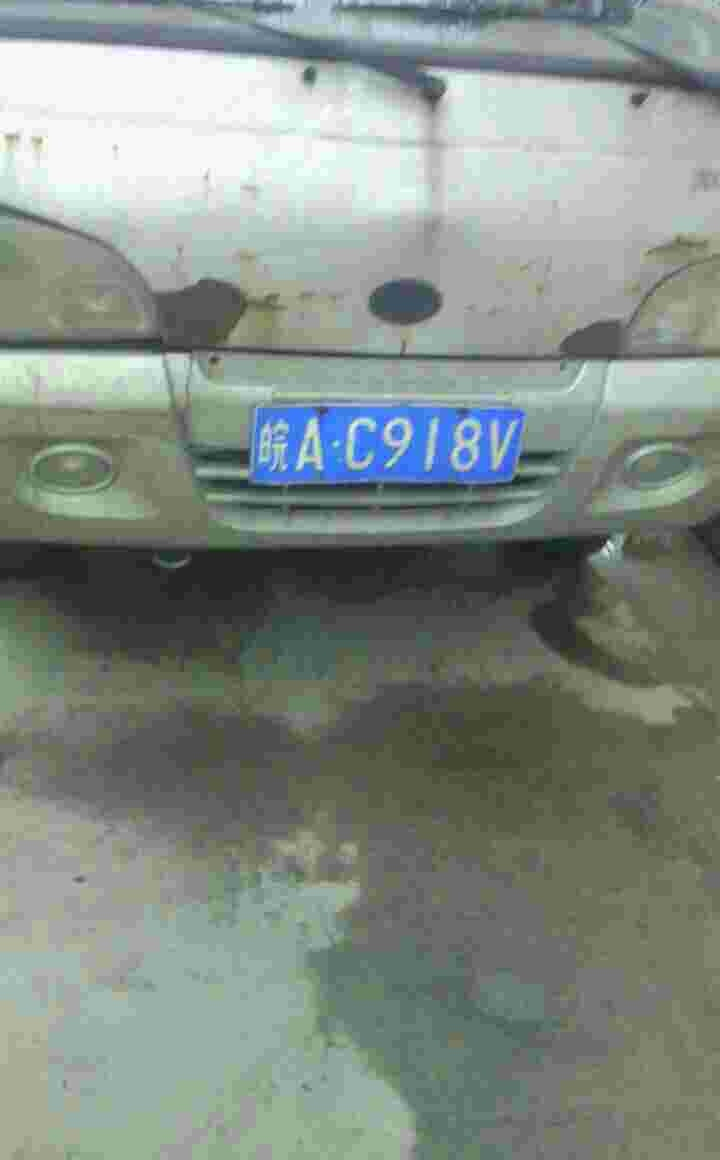plate: (251, 401, 535, 486)
